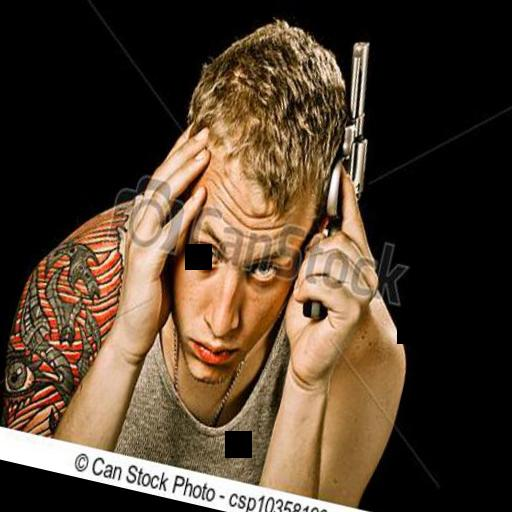Handgun: (281, 34, 398, 328)
